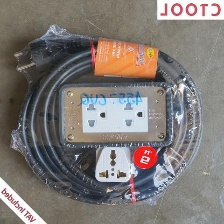three_eye_plug: (54, 75, 175, 150)
